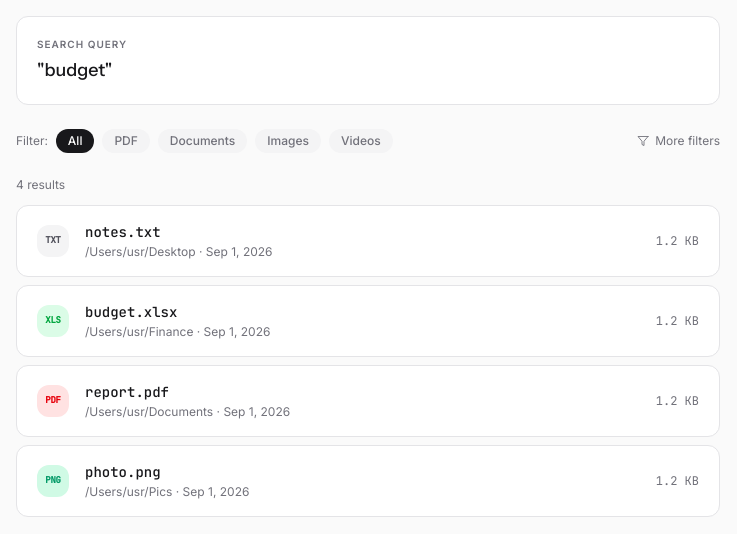
Scenario: Search › applies the Documents quick filter to non-folder results
The image size is (737, 534).
Step 1. Click the button "Documents" → (203, 141), box [158,129,247,153]
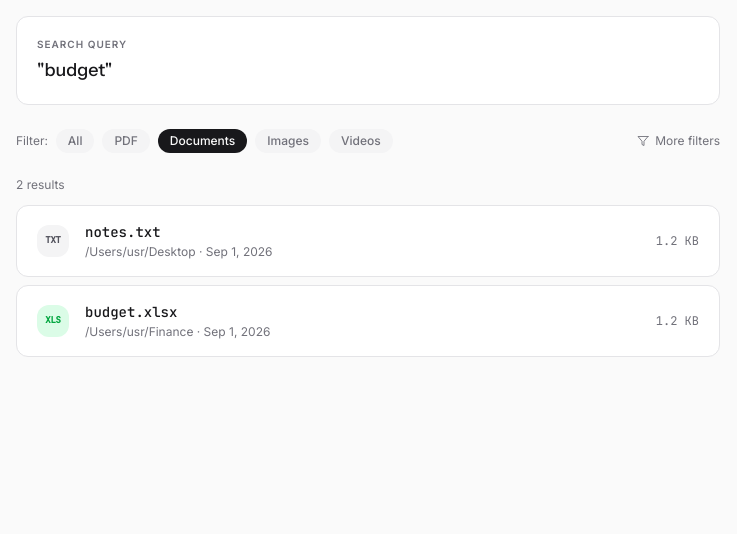
Result: the button "report.pdf" is gone
Result: the button "photo.png" is gone
Result: the text "2 results" is shown at [16,177,65,192]
